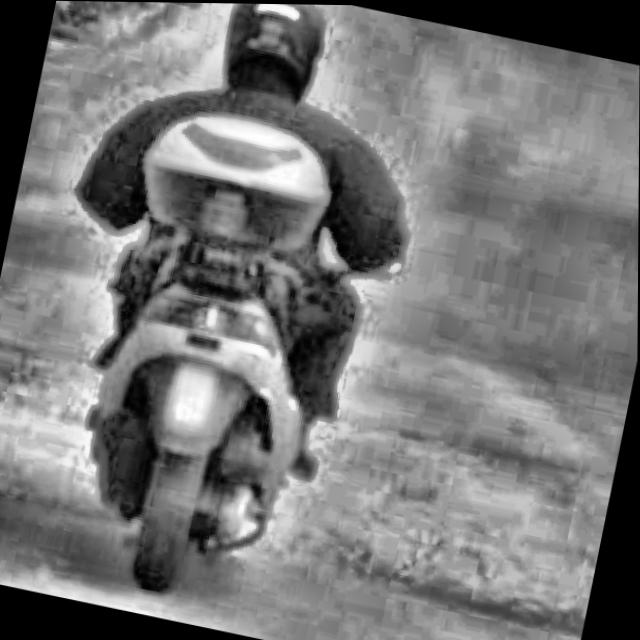motorcycle: (5, 77, 429, 625)
